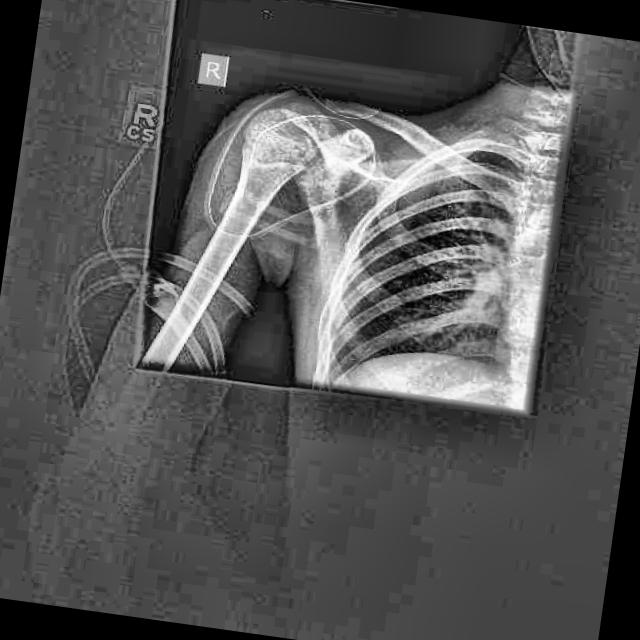shoulder fracture: (223, 136, 325, 210)
